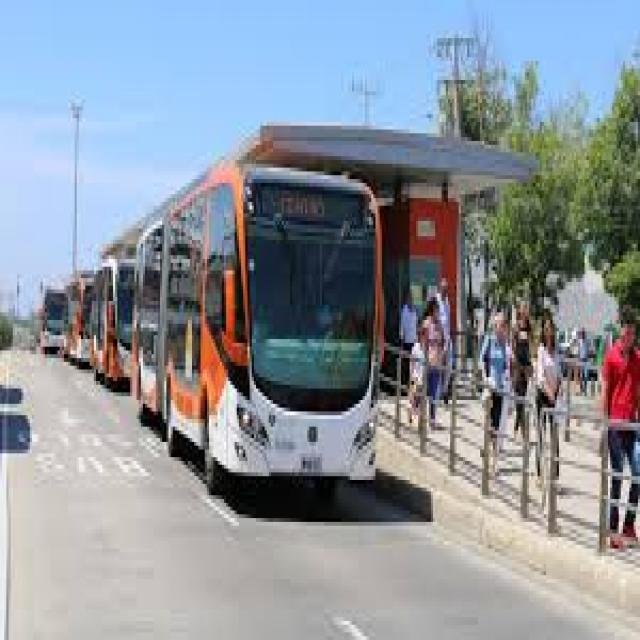AB: (130, 160, 388, 507)
